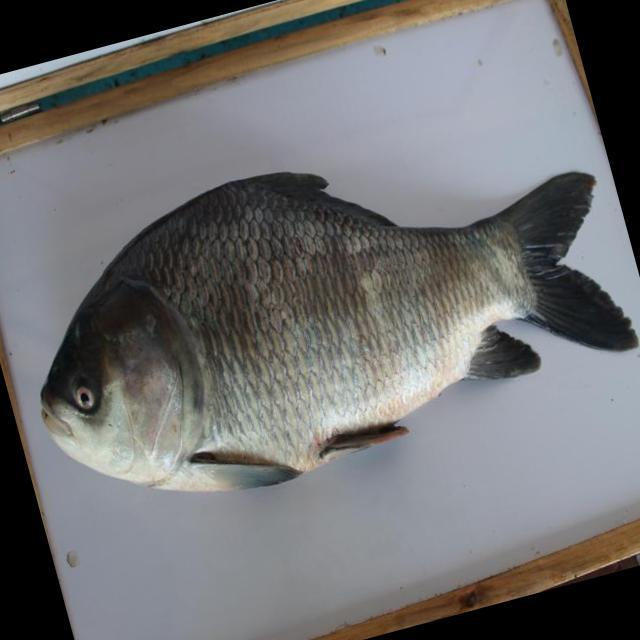Catla: (27, 166, 640, 490)
